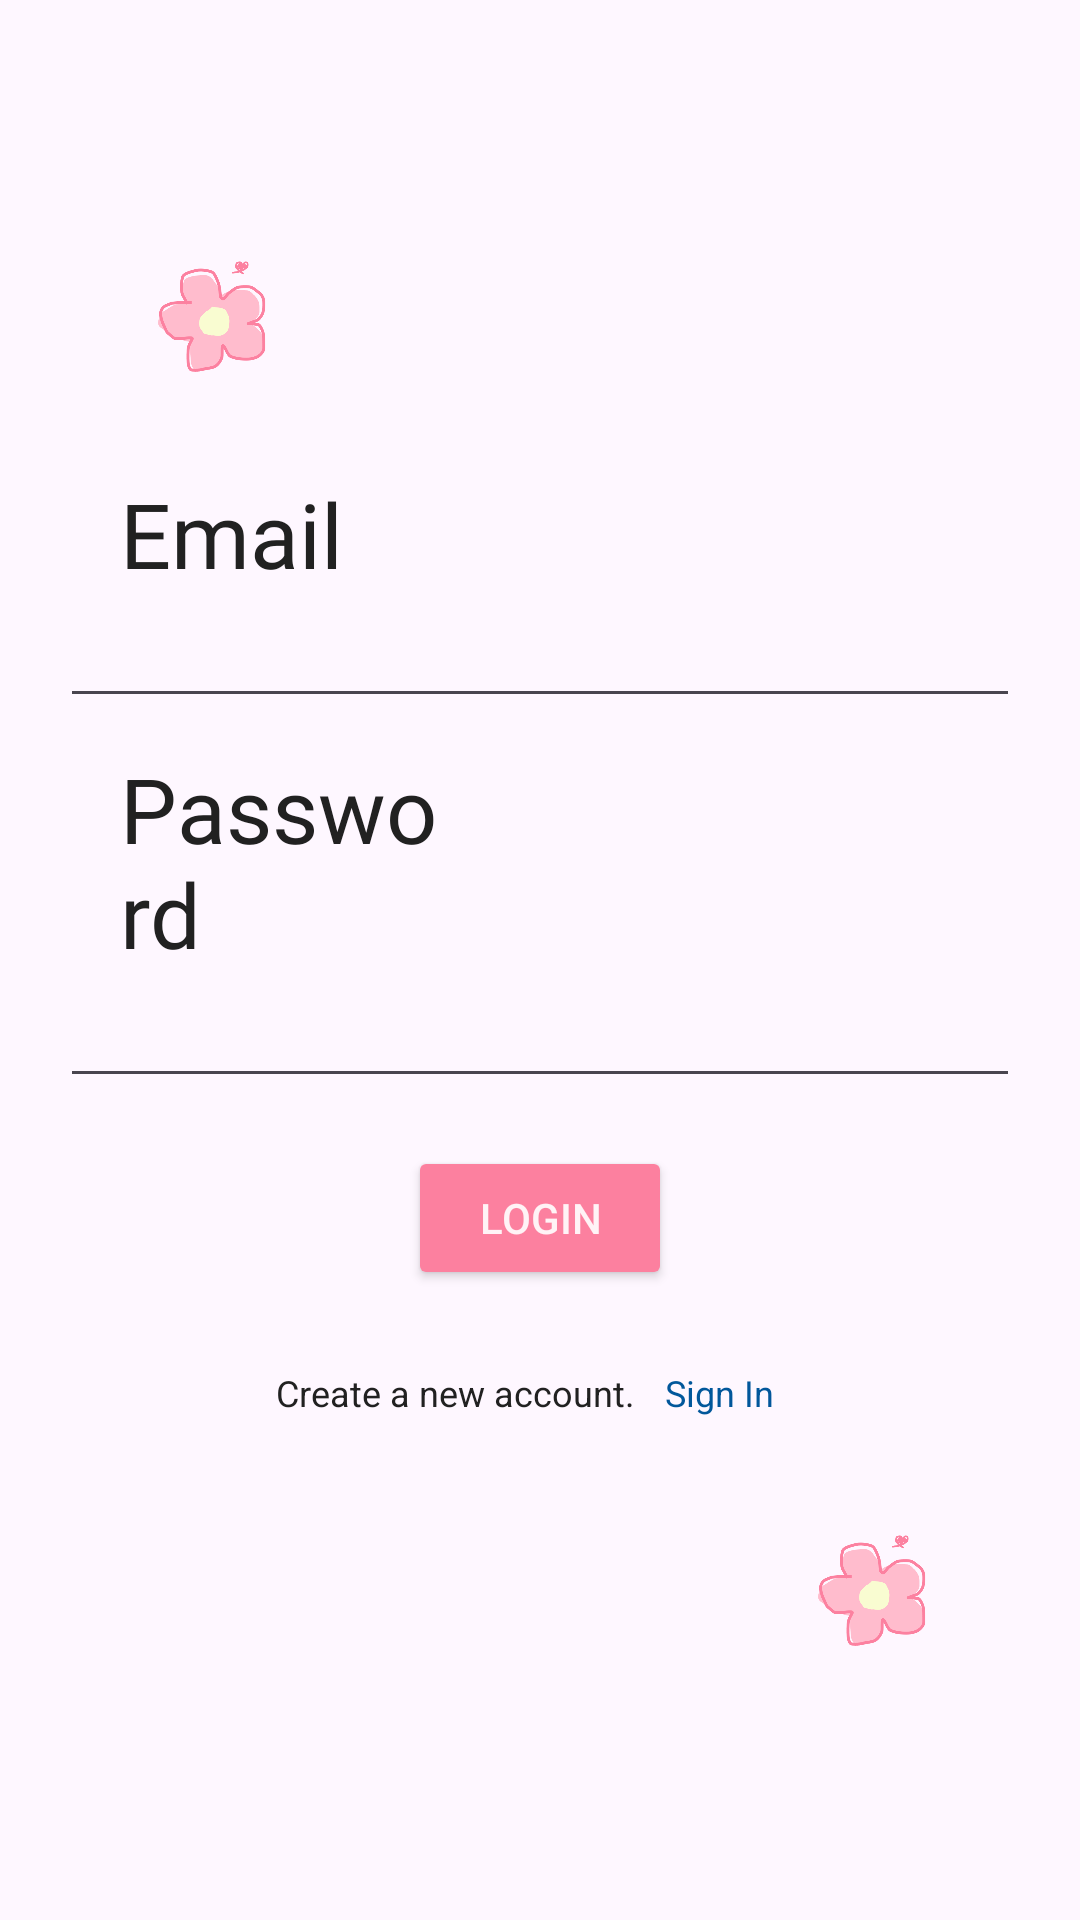

Icon click points for this 1080 x 1920 phone screenshot, format point (x, y):
daily bloom: point (211, 316), point (871, 1590)
